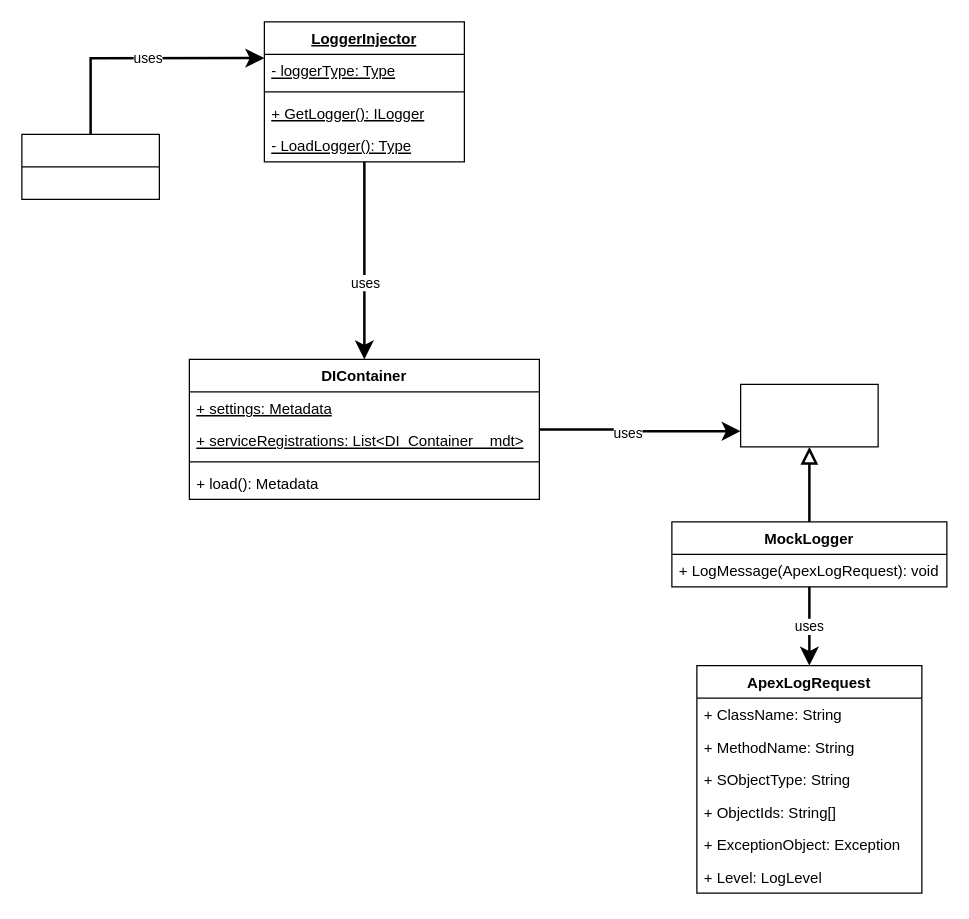
Image size: 969x919. Some labels were removed from this diagram. Here are the shapes that lost their labels. From the top down, the centre of each, then its label:
At point 90,166: "Client".
At point 808,415: "«interface» ILogger".
